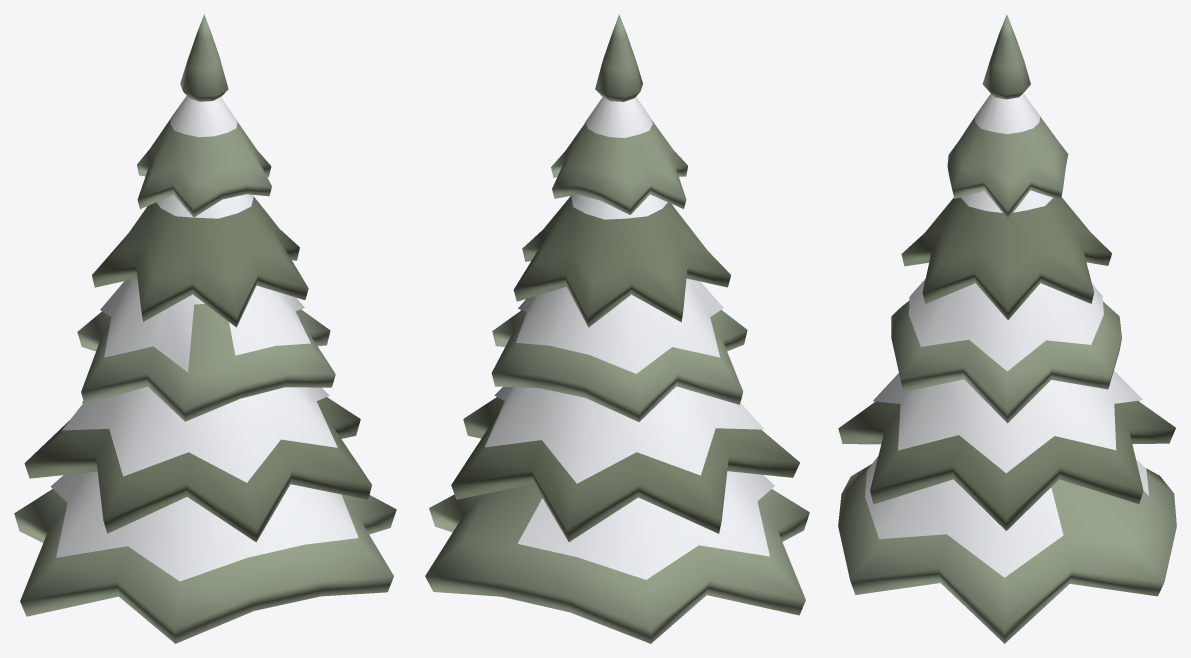
File: tree_pine_snow.glb
3 renders of one model, left to right at view 1: azimuth 30°, elevation 25°; view 2: azimuth 150°, elevation 25°; view 3: azimuth 270°, elevation 25°, orthographic. The views are drawn at different scales.
Parts seen in each view (by area): view 1: Body; view 2: Body; view 3: Body.
Part boxes in pixels (x1=…): Body: x1=14, y1=14, x2=396, y2=643; Body: x1=425, y1=14, x2=809, y2=643; Body: x1=838, y1=14, x2=1176, y2=643.
Bounding box in the file's own units: 7.35 × 10.5 × 5.89.
